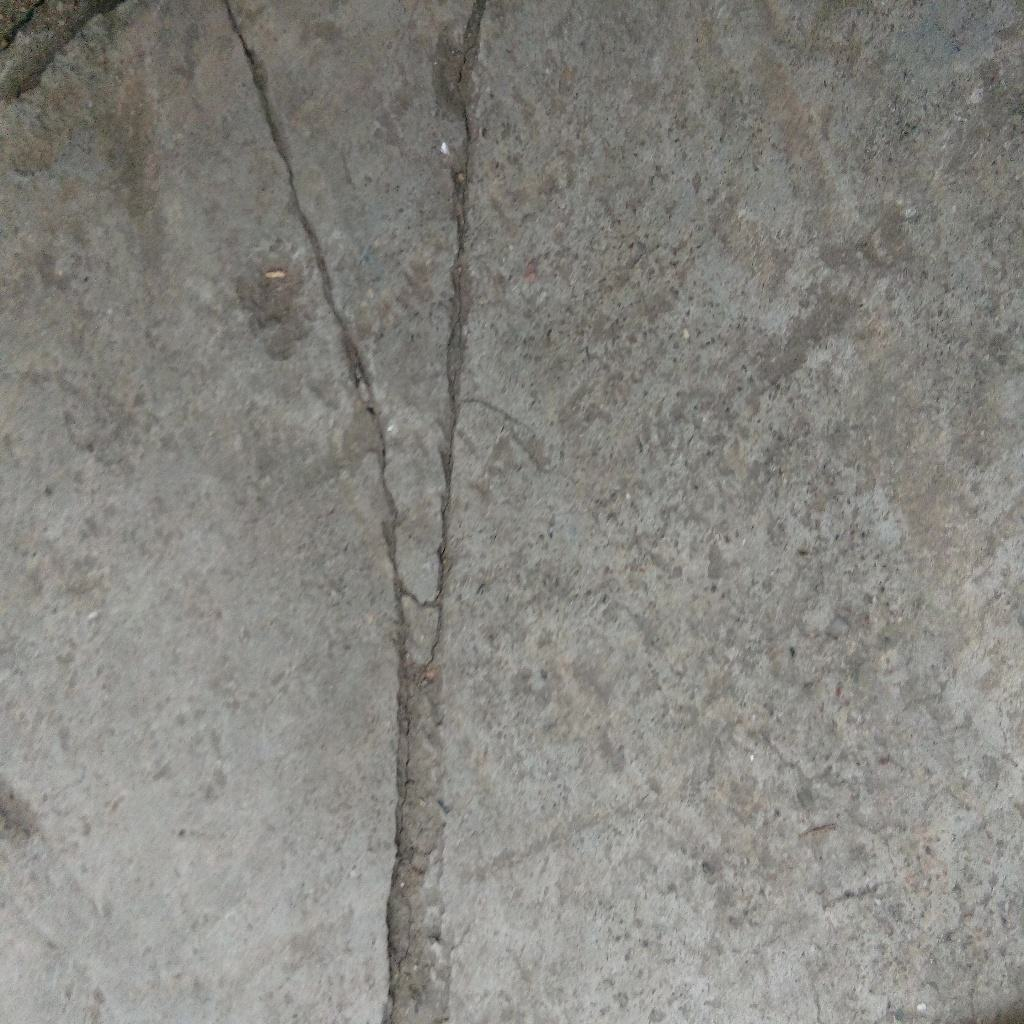Crack: (222, 1, 418, 663), (418, 1, 488, 663)
Spalling: (382, 663, 455, 1024)
